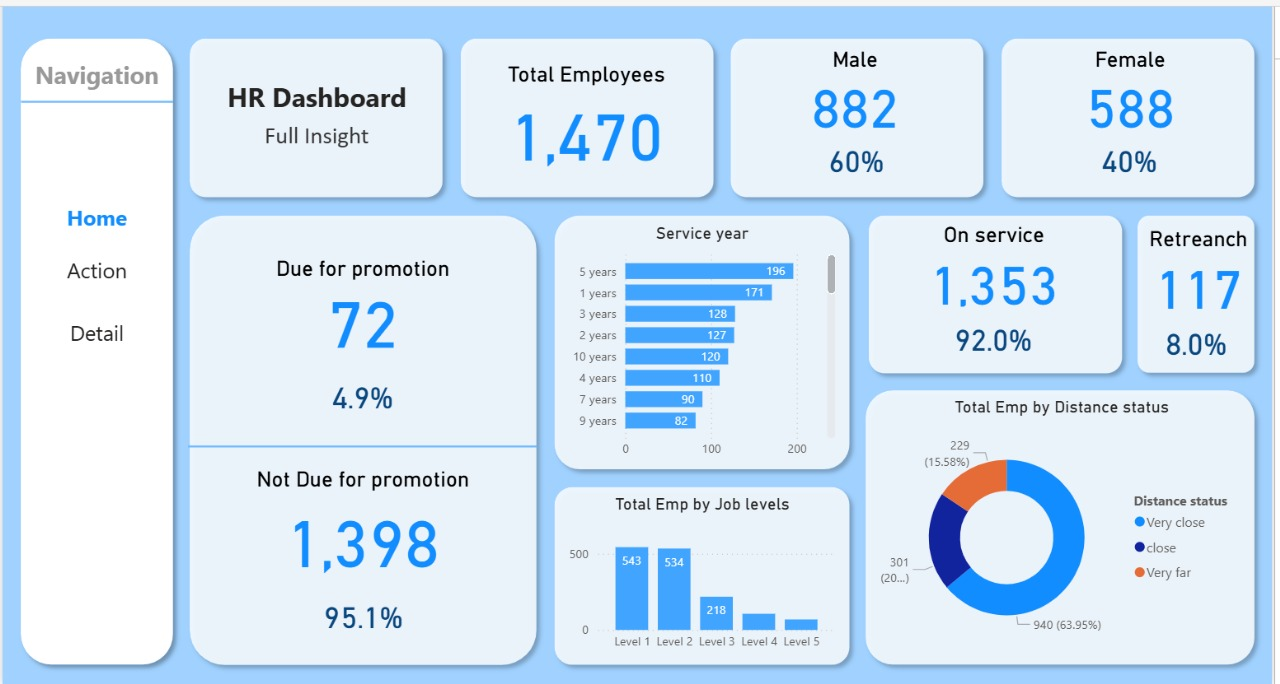

The page's visual inventory and layout, read from the dashboard file:
{"tool":"powerbi","page":{"name":"Page 1","canvas":[1280,720],"ordinal":0},"visuals":[{"type":"shape","box":[9.6,57.6,171.5,650.4],"z":0},{"type":"shape","box":[179.8,57.4,273.1,178.4],"z":1000},{"type":"shape","box":[452.8,57.4,273.1,178.4],"z":2000},{"type":"shape","box":[725.9,57.4,273.1,178.4],"z":3000},{"type":"shape","box":[999,57.4,273.1,178.4],"z":4000},{"type":"shape","box":[179.8,236,367.8,472],"z":5000},{"type":"shape","box":[547.5,236,315.6,274.4],"z":6000},{"type":"shape","box":[864.4,235.7,273.7,177.5],"z":7000},{"type":"shape","box":[1136.2,236,135.8,177],"z":8000},{"type":"shape","box":[861.8,413,410.3,295],"z":9000},{"type":"shape","box":[547.5,510.5,315.6,197.6],"z":10000},{"type":"textbox","box":[192.3,101.9,249.7,56.3],"z":11000},{"type":"textbox","box":[192.4,145,249.3,55.5],"z":12000},{"type":"card","title":"Total Employees","fields":{"Values":["Measures (2).Total Emp"]},"box":[436.2,89.4,304.8,111.1],"z":13000},{"type":"card","title":"Female","fields":{"Values":["Measures (2).Female"]},"box":[1083.8,74.5,107,88.1],"z":14000},{"type":"card","fields":{"Values":["Measures (2).% female"]},"box":[1073,145,128.7,88.1],"z":15000},{"type":"card","title":"Male","fields":{"Values":["Measures (2).Male"]},"box":[806.1,74.5,107,88.1],"z":16000},{"type":"card","fields":{"Values":["Measures (2).% male"]},"box":[796.6,145,128.7,88.1],"z":17000},{"type":"card","title":"Not Due for promotion","fields":{"Values":["Measures (2).Not due"]},"box":[247.9,498.6,230.3,113.8],"z":18000},{"type":"card","title":"Due for promotion","fields":{"Values":["Measures (2).due for promotion"]},"box":[261.5,285.9,203.2,97.5],"z":19000},{"type":"card","fields":{"Values":["Measures (2).% due for promotion"]},"box":[288.6,403.7,149,48.8],"z":20000},{"type":"card","fields":{"Values":["Measures (2).% Not Due"]},"box":[306.2,624.6,115.2,48.8],"z":21000},{"type":"shape","box":[18.9,110,153.3,40],"z":22000},{"type":"clusteredBarChart","title":"Service year","fields":{"Category":["HR Analytics Data.Service Year"],"Y":["Measures (2).Total Emp"]},"box":[566.7,252.2,278.9,246.7],"z":23000},{"type":"columnChart","fields":{"Category":["HR Analytics Data.Job levels"],"Y":["Measures (2).Total Emp"]},"box":[566.3,525.7,279.1,168],"z":24000},{"type":"card","title":"On service","fields":{"Values":["Measures (2).On service"]},"box":[868.4,252,262.8,90.8],"z":25000},{"type":"card","fields":{"Values":["Measures (2).% On services"]},"box":[947,342.8,105.7,52.8],"z":26000},{"type":"card","title":"Retreanch","fields":{"Values":["Measures (2).Will be retrenched"]},"box":[1131.2,256.1,149,90.8],"z":27000},{"type":"card","fields":{"Values":["Measures (2).% On service"]},"box":[1151.6,346.8,105.7,52.8],"z":28000},{"type":"donutChart","fields":{"Category":["HR Analytics Data.Distance status"],"Y":["Measures (2).Total Emp"]},"box":[880.6,428.1,376.6,265.5],"z":29000},{"type":"textbox","box":[22.2,82.2,146.7,55.6],"z":30000},{"type":"textbox","box":[22.2,227.1,146.7,42.2],"z":31000},{"type":"textbox","box":[22.2,280.4,146.7,55.6],"z":32000},{"type":"textbox","box":[22.2,343.8,146.7,55.6],"z":33000},{"type":"shape","box":[187.3,458.7,352,40],"z":34000}]}

Visuals, with their boxes in screenshot pixels (x1, y1, x2, y2):
shape: (x1=0, y1=15, x2=169, y2=669)
shape: (x1=168, y1=14, x2=442, y2=194)
shape: (x1=442, y1=14, x2=717, y2=194)
shape: (x1=717, y1=14, x2=992, y2=194)
shape: (x1=992, y1=14, x2=1266, y2=194)
shape: (x1=168, y1=194, x2=538, y2=669)
shape: (x1=537, y1=194, x2=855, y2=470)
shape: (x1=856, y1=194, x2=1132, y2=372)
shape: (x1=1130, y1=194, x2=1266, y2=372)
shape: (x1=854, y1=372, x2=1266, y2=669)
shape: (x1=537, y1=470, x2=855, y2=669)
textbox: (x1=180, y1=59, x2=431, y2=116)
textbox: (x1=180, y1=103, x2=431, y2=158)
"Total Employees" card: (x1=425, y1=47, x2=732, y2=158)
"Female" card: (x1=1077, y1=32, x2=1185, y2=120)
card - Measures (2).% female: (x1=1066, y1=103, x2=1196, y2=191)
"Male" card: (x1=798, y1=32, x2=905, y2=120)
card - Measures (2).% male: (x1=788, y1=103, x2=918, y2=191)
"Not Due for promotion" card: (x1=236, y1=458, x2=468, y2=573)
"Due for promotion" card: (x1=250, y1=244, x2=454, y2=342)
card - Measures (2).% due for promotion: (x1=277, y1=363, x2=427, y2=412)
card - Measures (2).% Not Due: (x1=295, y1=585, x2=411, y2=634)
shape: (x1=6, y1=67, x2=160, y2=108)
"Service year" clusteredBarChart: (x1=557, y1=210, x2=837, y2=459)
columnChart - HR Analytics Data.Job levels x Measures (2).Total Emp: (x1=556, y1=486, x2=837, y2=655)
"On service" card: (x1=860, y1=210, x2=1125, y2=302)
card - Measures (2).% On services: (x1=939, y1=302, x2=1046, y2=355)
"Retreanch" card: (x1=1125, y1=214, x2=1275, y2=306)
card - Measures (2).% On service: (x1=1145, y1=306, x2=1252, y2=359)
donutChart - HR Analytics Data.Distance status x Measures (2).Total Emp: (x1=873, y1=387, x2=1251, y2=654)
textbox: (x1=9, y1=39, x2=157, y2=95)
textbox: (x1=9, y1=185, x2=157, y2=228)
textbox: (x1=9, y1=239, x2=157, y2=295)
textbox: (x1=9, y1=303, x2=157, y2=358)
shape: (x1=175, y1=418, x2=529, y2=458)
